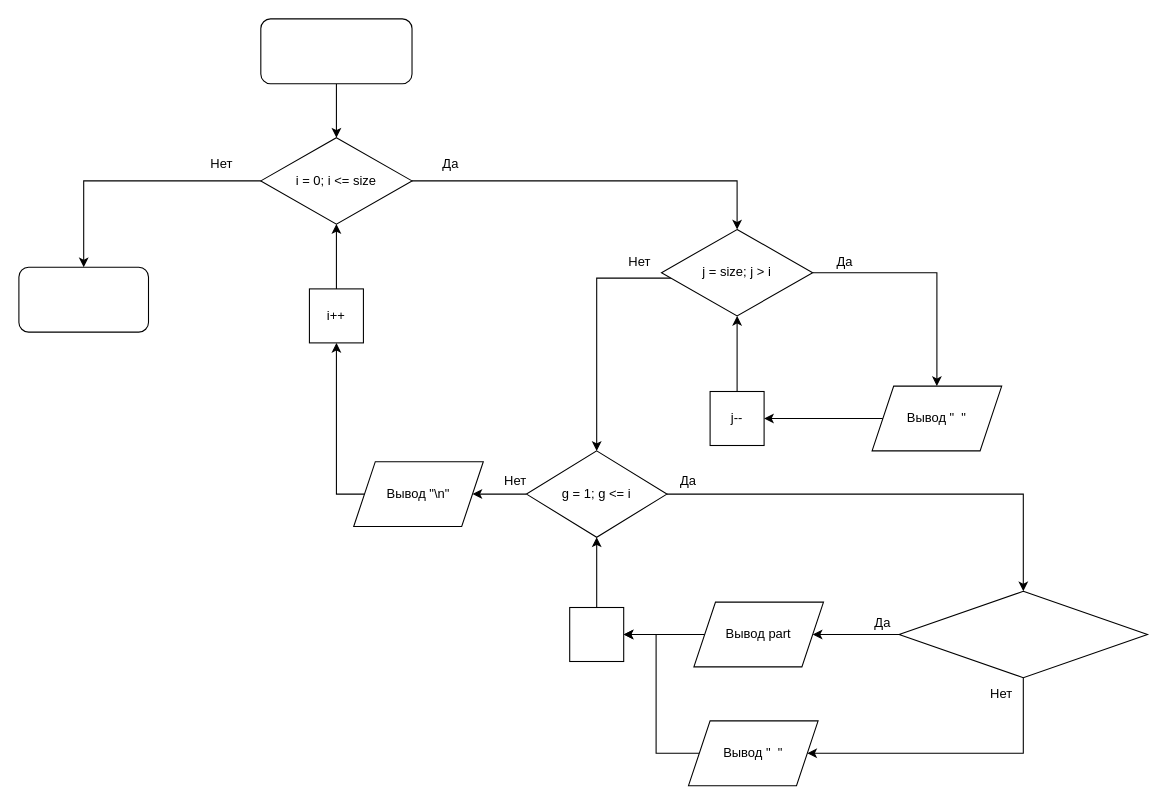
This 1166x805 diagram has some shape labels left out. The shapes that lost their labels are listed below. From the top down, each one's box as (x1, y1, x2, y2) in pixels, then its label:
(260, 18, 412, 84): Начало def_4
(18, 266, 148, 332): Конец def_4
(569, 606, 624, 662): g++
(898, 590, 1148, 678): g == 1 || g == i || i == size
